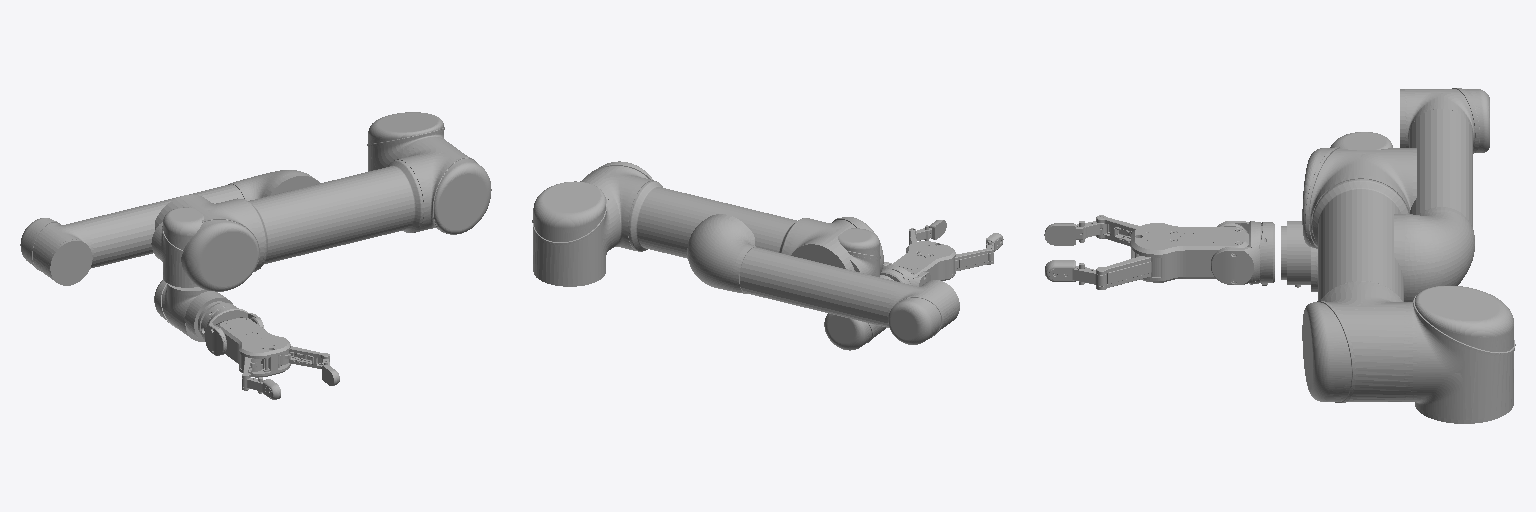
robot.urdf — ur3e_gripper_rg6:
<?xml version="1.0" encoding="utf-8"?>
  
<robot name="ur3e_gripper_rg6">

    <link name="base_link">
        <visual>
            <geometry>
                <mesh filename="UR3e/visual/base.dae"/>
            </geometry>
            <material name="LightGrey">
                <color rgba="0.7 0.7 0.7 1.0"/>
            </material>
        </visual>
        <collision>
            <geometry>
                <mesh filename="UR3e/collision/base.stl"/>
            </geometry>
        </collision>
    </link>

    <joint name="shoulder_pan_joint" type="revolute">
        <parent link="base_link"/>
        <child link="shoulder_link"/>
        <origin xyz="0.0 0.0 0.15185" rpy="0.0 0.0 0.0"/>
        <axis xyz="0 0 1"/>
        <limit effort="54.0" lower="-6.28" upper="6.28" velocity="3.14"/>
        <dynamics damping="0.0" friction="0.0"/>
    </joint>

    <link name="shoulder_link">
        <visual>
            <origin xyz="0 0 0" rpy="0 0 3.14"/>
            <geometry>
                <mesh filename="UR3e/visual/shoulder.dae"/>
            </geometry>
            <material name="LightGrey">
                <color rgba="0.7 0.7 0.7 1.0"/>
            </material>
        </visual>
        <collision>
            <origin xyz="0 0 0" rpy="0 0 3.14"/>
            <geometry>
                <mesh filename="UR3e/collision/shoulder.stl"/>
            </geometry>
        </collision>
        <inertial>
            <mass value="1.98"/>
            <origin rpy="0 0 0" xyz="0.0 0.0 -0.02"/>
            <inertia ixx="0.008093166666666665" ixy="0.0" ixz="0.0" iyy="0.008093166666666665" iyz="0.0" izz="0.005625"/>
        </inertial>
    </link>

    <joint name="shoulder_lift_joint" type="revolute">
        <parent link="shoulder_link"/>
        <child link="upper_arm_link"/>
        <origin xyz="0.0 0.0 0.0" rpy="1.570796327 0.0 0.0"/>
        <axis xyz="0 0 1"/>
        <limit effort="54.0" lower="-6.28" upper="6.28" velocity="3.14"/>
        <dynamics damping="0.0" friction="0.0"/>
    </joint>

    <link name="upper_arm_link">
        <visual>
            <origin xyz="0 0 0.120" rpy="1.570796 0 -1.570796"/>
            <geometry>
                <mesh filename="UR3e/visual/upperarm.dae"/>
            </geometry>
            <material name="LightGrey">
                <color rgba="0.7 0.7 0.7 1.0"/>
            </material>
        </visual>
        <collision>
            <origin xyz="0 0 0.120" rpy="1.570796 0 -1.570796"/>
            <geometry>
                <mesh filename="UR3e/collision/upperarm.stl"/>
            </geometry>
        </collision>
        <inertial>
            <mass value="3.4445"/>
            <origin rpy="0 0 0" xyz="-0.11355 0.0 0.1157"/>
            <inertia ixx="0.021728491912499998" ixy="0.0" ixz="0.0" iyy="0.021728491912499998" iyz="0.0" izz="0.00961875"/>
        </inertial>
    </link>

    <joint name="elbow_joint" type="revolute">
        <parent link="upper_arm_link"/>
        <child link="forearm_link"/>
        <origin xyz="-0.24355 0.0 0.0" rpy="0.0 0.0 0.0"/>
        <axis xyz="0 0 1"/>
        <limit effort="28.0" lower="-3.14" upper="3.14" velocity="3.14"/>
        <dynamics damping="0.0" friction="0.0"/>
    </joint>

    <link name="forearm_link">
        <visual>
            <origin xyz="0 0 0.027" rpy="1.570796 0 -1.570796"/>
            <geometry>
                <mesh filename="UR3e/visual/forearm.dae"/>
            </geometry>
            <material name="LightGrey">
                <color rgba="0.7 0.7 0.7 1.0"/>
            </material>
        </visual>
        <collision>
            <origin xyz="0 0 0.027" rpy="1.570796 0 -1.570796"/>
            <geometry>
                <mesh filename="UR3e/collision/forearm.stl"/>
            </geometry>
        </collision>
        <inertial>
            <mass value="1.437"/>
            <origin rpy="0 0 0" xyz="-0.1632 0.0 0.0238"/>
            <inertia ixx="0.006544570199999999" ixy="0.0" ixz="0.0" iyy="0.006544570199999999" iyz="0.0" izz="0.00354375"/>
        </inertial>
    </link>

    <joint name="wrist_1_joint" type="revolute">
        <parent link="forearm_link"/>
        <child link="wrist_1_link"/>
        <origin xyz="-0.2132 0.0 0.13105" rpy="0.0 0.0 0.0"/>
        <axis xyz="0 0 1"/>
        <limit effort="9.0" lower="-6.28" upper="6.28" velocity="6.28"/>
        <dynamics damping="0.0" friction="0.0"/>
    </joint>

    <link name="wrist_1_link">
        <visual>
            <origin xyz="0 0 -0.104" rpy="1.570796 0 0"/>
            <geometry>
                <mesh filename="UR3e/visual/wrist1.dae"/>
            </geometry>
            <material name="LightGrey">
                <color rgba="0.7 0.7 0.7 1.0"/>
            </material>
        </visual>
        <collision>
            <origin xyz="0 0 -0.104" rpy="1.570796 0 0"/>
            <geometry>
                <mesh filename="UR3e/collision/wrist1.stl"/>
            </geometry>
        </collision>
        <inertial>
            <mass value="0.871"/>
            <origin rpy="0 0 0" xyz="0.0 -0.01 0.0"/>
            <inertia ixx="0.0020849999999999996" ixy="0.0" ixz="0.0" iyy="0.0020849999999999996" iyz="0.0" izz="0.00225"/>
        </inertial>
    </link>

    <joint name="wrist_2_joint" type="revolute">
        <parent link="wrist_1_link"/>
        <child link="wrist_2_link"/>
        <origin xyz="0.0 -0.08535 -1.750557762378351e-11" rpy="1.570796327 0.0 0.0"/>
        <axis xyz="0 0 1"/>
        <limit effort="9.0" lower="-6.28" upper="6.28" velocity="6.28"/>
        <dynamics damping="0.0" friction="0.0"/>
    </joint>

    <link name="wrist_2_link">
        <visual>
            <origin xyz="0 0 -0.08535" rpy="0 0 0"/>
            <geometry>
                <mesh filename="UR3e/visual/wrist2.dae"/>
            </geometry>
            <material name="LightGrey">
                <color rgba="0.7 0.7 0.7 1.0"/>
            </material>
        </visual>
        <collision>
            <origin xyz="0 0 -0.08535" rpy="0 0 0"/>
            <geometry>
                <mesh filename="UR3e/collision/wrist2.stl"/>
            </geometry>
        </collision>
        <inertial>
            <mass value="0.805"/>
            <origin rpy="0 0 0" xyz="0.0 0.01 0.0"/>
            <inertia ixx="0.0020849999999999996" ixy="0.0" ixz="0.0" iyy="0.0020849999999999996" iyz="0.0" izz="0.00225"/>
        </inertial>
    </link>

    <joint name="wrist_3_joint" type="revolute">
        <parent link="wrist_2_link"/>
        <child link="wrist_3_link"/>
        <origin xyz="0.0 0.0921 -1.8890025766262e-11" rpy="1.570796326589793 3.141592653589793 3.141592653589793"/>
        <axis xyz="0 0 1"/>
        <limit effort="9.0" lower="-6.28" upper="6.28" velocity="6.28"/>
        <dynamics damping="0.0" friction="0.0"/>
    </joint>

    <link name="wrist_3_link">
        <visual>
            <origin xyz="0 0 -0.0921" rpy="1.570796 0 0"/>
            <geometry>
                <mesh filename="UR3e/visual/wrist3.dae"/>
            </geometry>
            <material name="LightGrey">
                <color rgba="0.7 0.7 0.7 1.0"/>
            </material>
        </visual>
        <collision>
            <origin xyz="0 0 -0.0921" rpy="1.570796 0 0"/>
            <geometry>
                <mesh filename="UR3e/collision/wrist3.stl"/>
            </geometry>
        </collision>
        <inertial>
            <mass value="0.261"/>
            <origin rpy="0 0 0" xyz="0.0 0.0 -0.02"/>
            <inertia ixx="0.00013626666666666665" ixy="0.0" ixz="0.0" iyy="0.00013626666666666665" iyz="0.0" izz="0.0001792"/>
        </inertial>
    </link>


<!-- ################################### -->
<!-- ########### RG6 GRIPPER ########### -->
<!-- ################################### -->


    <material name="silver">
        <color rgba="0.700 0.700 0.700 1.000"/>
    </material>

    <joint name="wrist3_rg6_gripper" type="fixed">
        <origin xyz="0 0 0" rpy="0 0 0"/>
        <parent link="wrist_3_link"/>
        <child link="rg6_gripper_base_link"/>
    </joint>

    <link name="rg6_gripper_base_link">
        <inertial>
            <origin xyz="-0.00030179080386336256 -0.00047670368310389217 0.020678912231015475" rpy="0 0 0"/>
            <mass value="0.7592453895368185"/>
            <inertia ixx="0.000452" iyy="0.000705" izz="0.000689" ixy="-1e-06" iyz="-5e-06" ixz="-0.0"/>
        </inertial>
        <visual>
            <origin xyz="0 0 0" rpy="0 0 0"/>
            <geometry>
                <mesh filename="rg6_gripper/meshes/base_link.stl" scale="0.001 0.001 0.001"/>
            </geometry>
            <material name="silver"/>
        </visual>
        <collision>
            <origin xyz="0 0 0" rpy="0 0 0"/>
            <geometry>
                <mesh filename="rg6_gripper/meshes/base_link.stl" scale="0.001 0.001 0.001"/>
            </geometry>
        </collision>
    </link>

    <link name="g_main">
        <inertial>
            <origin xyz="0.031843851343412694 -6.562152034605188e-05 0.0402561266087614" rpy="0 0 0"/>
            <mass value="2.1746665575894286"/>
            <inertia ixx="0.003297" iyy="0.00361" izz="0.00105" ixy="-1e-06" iyz="5e-06" ixz="3e-06"/>
        </inertial>
        <visual>
            <origin xyz="0.031849 -1e-06 -0.04953" rpy="0 0 0"/>
            <geometry>
                <mesh filename="rg6_gripper/meshes/g_main.stl" scale="0.001 0.001 0.001"/>
            </geometry>
            <material name="silver"/>
        </visual>
        <collision>
            <origin xyz="0.031849 -1e-06 -0.04953" rpy="0 0 0"/>
            <geometry>
                <mesh filename="rg6_gripper/meshes/g_main.stl" scale="0.001 0.001 0.001"/>
            </geometry>
        </collision>
    </link>

    <link name="l_out">
        <inertial>
            <origin xyz="0.010442859349590227 -0.012799625869821 0.012792983853972317" rpy="0 0 0"/>
            <mass value="0.24195762212403002"/>
            <inertia ixx="0.00011" iyy="0.00016" izz="7.6e-05" ixy="0.0" iyz="0.0" ixz="-6.6e-05"/>
        </inertial>
        <visual>
            <origin xyz="-0.023851 -0.012801 -0.13453" rpy="0 0 0"/>
            <geometry>
                <mesh filename="rg6_gripper/meshes/l_out.stl" scale="0.001 0.001 0.001"/>
            </geometry>
            <material name="silver"/>
        </visual>
        <collision>
            <origin xyz="-0.023851 -0.012801 -0.13453" rpy="0 0 0"/>
            <geometry>
                <mesh filename="rg6_gripper/meshes/l_out.stl" scale="0.001 0.001 0.001"/>
            </geometry>
        </collision>
    </link>

    <link name="r_out">
        <inertial>
            <origin xyz="-0.010522665986501832 -0.012799489922871823 0.012809246687502496" rpy="0 0 0"/>
            <mass value="0.24195762035711757"/>
            <inertia ixx="0.00011" iyy="0.00016" izz="7.6e-05" ixy="0.0" iyz="-0.0" ixz="6.5e-05"/>
        </inertial>
        <visual>
            <origin xyz="0.023749 -0.012801 -0.13453" rpy="0 0 0"/>
            <geometry>
                <mesh filename="rg6_gripper/meshes/r_out.stl" scale="0.001 0.001 0.001"/>
            </geometry>
            <material name="silver"/>
        </visual>
        <collision>
            <origin xyz="0.023749 -0.012801 -0.13453" rpy="0 0 0"/>
            <geometry>
                <mesh filename="rg6_gripper/meshes/r_out.stl" scale="0.001 0.001 0.001"/>
            </geometry>
        </collision>
    </link>

    <link name="l_tip">
        <inertial>
            <origin xyz="-0.01379426979129901 0.012430443916766657 0.03303967984911002" rpy="0 0 0"/>
            <mass value="0.13426652162693567"/>
            <inertia ixx="5.6e-05" iyy="5.9e-05" izz="1.3e-05" ixy="-0.0" iyz="-0.0" ixz="1.6e-05"/>
        </inertial>
        <visual>
            <origin xyz="-0.071235 0.012499 -0.19895" rpy="0 0 0"/>
            <geometry>
                <mesh filename="rg6_gripper/meshes/l_tip.stl" scale="0.001 0.001 0.001"/>
            </geometry>
            <material name="silver"/>
        </visual>
        <collision>
            <origin xyz="-0.071235 0.012499 -0.19895" rpy="0 0 0"/>
            <geometry>
                <mesh filename="rg6_gripper/meshes/l_tip.stl" scale="0.001 0.001 0.001"/>
            </geometry>
        </collision>
    </link>

    <link name="r_tip">
        <inertial>
            <origin xyz="0.01379460286375201 0.012599371946431372 0.03303919214417522" rpy="0 0 0"/>
            <mass value="0.13426652162693592"/>
            <inertia ixx="5.6e-05" iyy="5.9e-05" izz="1.3e-05" ixy="-0.0" iyz="-0.0" ixz="-1.6e-05"/>
        </inertial>
        <visual>
            <origin xyz="0.071133 0.012499 -0.199024" rpy="0 0 0"/>
            <geometry>
                <mesh filename="rg6_gripper/meshes/r_tip.stl" scale="0.001 0.001 0.001"/>
            </geometry>
            <material name="silver"/>
        </visual>
        <collision>
            <origin xyz="0.071133 0.012499 -0.199024" rpy="0 0 0"/>
            <geometry>
                <mesh filename="rg6_gripper/meshes/r_tip.stl" scale="0.001 0.001 0.001"/>
            </geometry>
        </collision>
    </link>

    <!-- <link name="l_inner">
        <inertial>
            <origin xyz="0.021220873634115123 -0.00019955790008889003 0.02884270588361451" rpy="0 0 0"/>
            <mass value="0.0502402669834145"/>
            <inertia ixx="3.4e-05" iyy="4.6e-05" izz="2e-05" ixy="-0.0" iyz="-0.0" ixz="-2.2e-05"/>
        </inertial>
        <visual>
            <origin xyz="-0.010551 -0.000101 -0.15763" rpy="0 0 0"/>
            <geometry>
                <mesh filename="rg6_gripper/meshes/l_inner.stl" scale="0.001 0.001 0.001"/>
            </geometry>
            <material name="silver"/>
        </visual>
        <collision>
            <origin xyz="-0.010551 -0.000101 -0.15763" rpy="0 0 0"/>
            <geometry>
                <mesh filename="rg6_gripper/meshes/l_inner.stl" scale="0.001 0.001 0.001"/>
            </geometry>
        </collision>
    </link> -->

    <!-- <link name="r_inner">
        <inertial>
            <origin xyz="-0.021275767636285234 -0.00019955790008339296 0.02887567083082221" rpy="0 0 0"/>
            <mass value="0.05024026698344974"/>
            <inertia ixx="3.4e-05" iyy="4.6e-05" izz="2e-05" ixy="-0.0" iyz="0.0" ixz="2.2e-05"/>
        </inertial>
        <visual>
            <origin xyz="0.010449 -0.000101 -0.15763" rpy="0 0 0"/>
            <geometry>
                <mesh filename="rg6_gripper/meshes/r_inner.stl" scale="0.001 0.001 0.001"/>
            </geometry>
            <material name="silver"/>
        </visual>
        <collision>
            <origin xyz="0.010449 -0.000101 -0.15763" rpy="0 0 0"/>
            <geometry>
                <mesh filename="rg6_gripper/meshes/r_inner.stl" scale="0.001 0.001 0.001"/>
            </geometry>
        </collision>
    </link> -->

    <joint name="g_main" type="fixed">
        <origin xyz="-0.031849 1e-06 0.04953" rpy="0 0 0"/>
        <parent link="rg6_gripper_base_link"/>
        <child link="g_main"/>
    </joint>

    <joint name="l_out" type="revolute">
        <origin xyz="0.0557 0.0128 0.085" rpy="0 0 0"/>
        <parent link="g_main"/>
        <child link="l_out"/>
        <axis xyz="-0.0 1.0 0.0"/>
        <limit upper="0.610865" lower="-0.523599" effort="100" velocity="100"/>
    </joint>

    <joint name="r_out" type="revolute">
        <origin xyz="0.0081 0.0128 0.085" rpy="0 0 0"/>
        <parent link="g_main"/>
        <child link="r_out"/>
        <axis xyz="-0.0 1.0 0.0"/>
        <limit upper="0.523599" lower="-0.610865" effort="100" velocity="100"/>
        <mimic joint="l_out" multiplier="-1"/>
    </joint>

    <joint name="l_tip" type="revolute">
        <origin xyz="0.047384 -0.0253 0.06442" rpy="0 0 0"/>
        <parent link="l_out"/>
        <child link="l_tip"/>
        <axis xyz="0.0 -1.0 0.0"/>
        <limit upper="0.610865" lower="-0.523599" effort="100" velocity="100"/>
        <mimic joint="l_out" multiplier="1"/>
    </joint>

    <joint name="r_tip" type="revolute">
        <origin xyz="-0.047384 -0.0253 0.064494" rpy="0 0 0"/>
        <parent link="r_out"/>
        <child link="r_tip"/>
        <axis xyz="0.0 -1.0 0.0"/>
        <limit upper="0.523599" lower="-0.610865" effort="100" velocity="100"/>
        <mimic joint="l_out" multiplier="-1"/>
    </joint>

    <!-- <joint name="l_passive" type="revolute">
        <origin xyz="0.0424 0.0001 0.1081" rpy="0 0 0"/>
        <parent link="g_main"/>
        <child link="l_inner"/>
        <axis xyz="0.0 -1.0 0.0"/>
        <limit upper="0.523599" lower="-0.610865" effort="100" velocity="100"/>
        <mimic joint="l_out" multiplier="-1"/>
    </joint> -->

    <!-- <joint name="r_passive" type="revolute">
        <origin xyz="0.0214 0.0001 0.1081" rpy="0 0 0"/>
        <parent link="g_main"/>
        <child link="r_inner"/>
        <axis xyz="-0.0 1.0 -0.0"/>
        <limit upper="0.523599" lower="-0.610865" effort="100" velocity="100"/>
        <mimic joint="l_out" multiplier="-1"/>
    </joint> -->

    <!-- <link name="hand_tcp" /> -->
    <!-- <joint name="hand_tcp_joint" type="fixed">
        <origin xyz="0.036 0 0.21" rpy="0 0 0" />
        <parent link="g_main" />
        <child link="hand_tcp" />
        <axis xyz="-0.0 1.0 -0.0"/>
    </joint> -->


</robot>

--- Render facts (derived) ---
The picture shows the robot from 3 angles, left to right: view 1: azimuth 30°, elevation 25°; view 2: azimuth 150°, elevation 25°; view 3: azimuth 270°, elevation 25°; orthographic projection.
Model ur3e_gripper_rg6 with 13 links and 12 joints (10 revolute, 2 fixed), rooted at base_link, posed every joint at zero.
Visible links, largest first — view 1: upper_arm_link, forearm_link, shoulder_link, g_main, wrist_1_link, wrist_2_link, rg6_gripper_base_link, wrist_3_link, l_out, r_tip; view 2: forearm_link, upper_arm_link, shoulder_link, g_main, wrist_1_link, wrist_2_link, r_out, rg6_gripper_base_link; view 3: upper_arm_link, forearm_link, shoulder_link, g_main, rg6_gripper_base_link, wrist_3_link, l_out, r_tip, l_tip, wrist_1_link, r_out.
Boxes of the visible links, bbox=[...] form: upper_arm_link: bbox=[155, 137, 491, 291]; forearm_link: bbox=[20, 170, 319, 285]; shoulder_link: bbox=[367, 112, 445, 171]; g_main: bbox=[218, 318, 290, 377]; wrist_1_link: bbox=[151, 207, 203, 287]; wrist_2_link: bbox=[154, 279, 206, 341]; rg6_gripper_base_link: bbox=[201, 303, 264, 355]; wrist_3_link: bbox=[185, 291, 232, 341]; l_out: bbox=[280, 346, 329, 368]; r_tip: bbox=[242, 373, 280, 399]; forearm_link: bbox=[687, 214, 959, 344]; upper_arm_link: bbox=[580, 161, 883, 274]; shoulder_link: bbox=[532, 181, 620, 286]; g_main: bbox=[891, 241, 955, 280]; wrist_1_link: bbox=[838, 228, 880, 276]; wrist_2_link: bbox=[824, 313, 885, 350]; r_out: bbox=[952, 247, 993, 273]; rg6_gripper_base_link: bbox=[881, 262, 930, 286]; upper_arm_link: bbox=[1302, 147, 1416, 402]; forearm_link: bbox=[1394, 88, 1489, 301]; shoulder_link: bbox=[1404, 286, 1515, 423]; g_main: bbox=[1131, 223, 1248, 282]; rg6_gripper_base_link: bbox=[1211, 221, 1274, 285]; wrist_3_link: bbox=[1281, 221, 1310, 287]; l_out: bbox=[1096, 256, 1160, 289]; r_tip: bbox=[1044, 216, 1106, 245]; l_tip: bbox=[1045, 260, 1106, 286]; wrist_1_link: bbox=[1330, 132, 1392, 149]; r_out: bbox=[1096, 215, 1139, 246].
Size in the robot's own frame: 0.7342 by 0.5481 by 0.2019 metres.
12 mesh visuals loaded from 13 distinct referenced files (6 binary STL, 6 Collada DAE); not drawn: 1 (reference not matched to a file when rendering).
